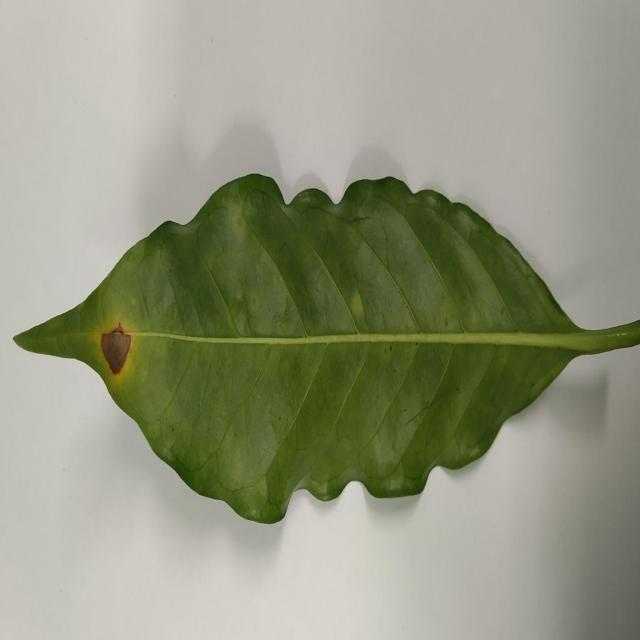Enfermedad-Mancha-de-hierro: (12, 173, 640, 527)
